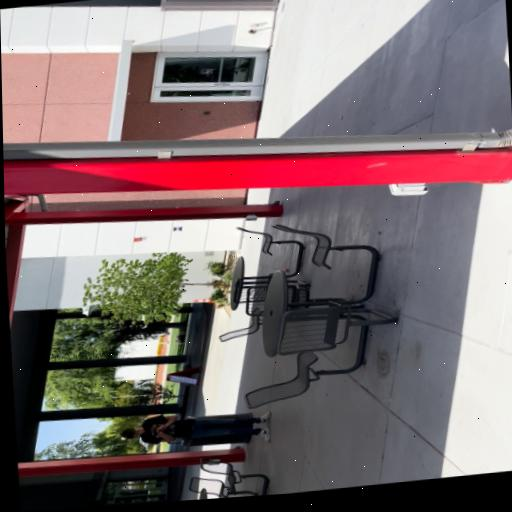target2: (173, 226, 182, 231)
